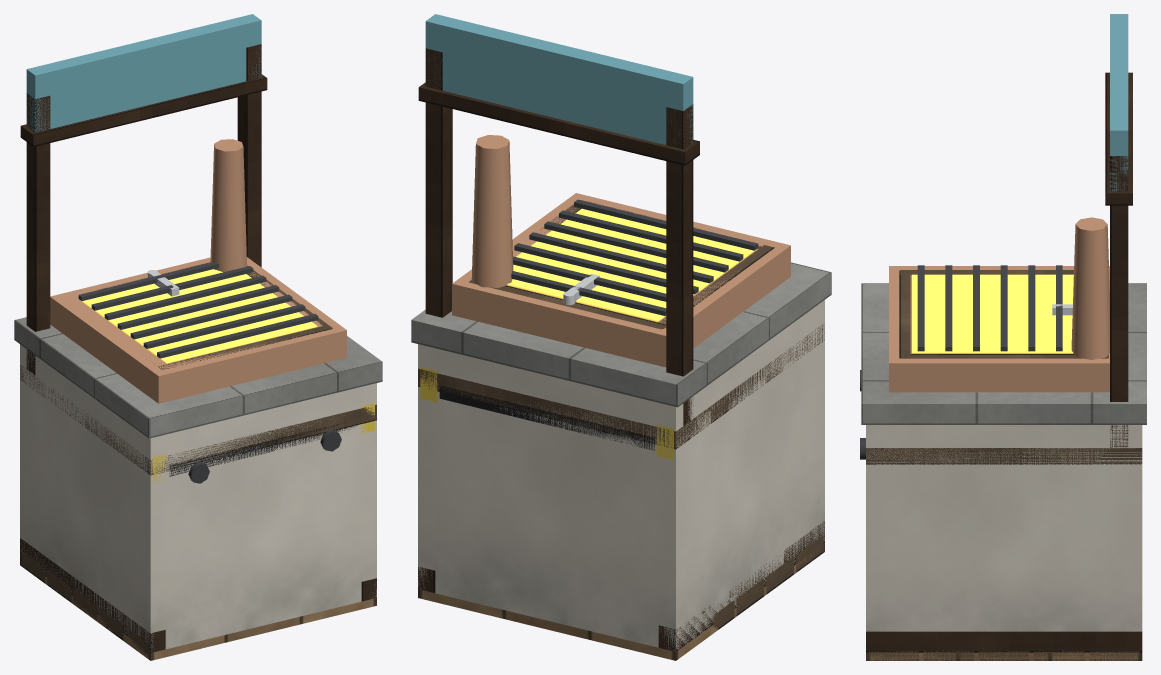
The model's file is coop.glb.
3 renders of one model, left to right at view 1: azimuth 30°, elevation 25°; view 2: azimuth 150°, elevation 25°; view 3: azimuth 270°, elevation 25°, orthographic. The views are drawn at different scales.
Visible parts, largest first — view 1: k_wall, k_smoker, k_hatch, k_board, k_plank, k_floor, k_belt, k_crate, k_stove; view 2: k_wall, k_hatch, k_smoker, k_board, k_plank, k_belt, k_floor, k_crate; view 3: k_wall, k_smoker, k_hatch, k_plank, k_board, k_crate, k_floor.
Boxes of the visible parts, bbox=[...] form: k_wall: bbox=[14, 317, 382, 651]; k_smoker: bbox=[50, 139, 346, 403]; k_hatch: bbox=[20, 14, 267, 374]; k_board: bbox=[20, 365, 376, 475]; k_plank: bbox=[20, 538, 376, 659]; k_floor: bbox=[20, 557, 376, 660]; k_belt: bbox=[152, 403, 374, 484]; k_crate: bbox=[98, 262, 332, 369]; k_stove: bbox=[188, 430, 341, 483]; k_wall: bbox=[411, 262, 831, 651]; k_hatch: bbox=[418, 14, 699, 425]; k_smoker: bbox=[452, 135, 790, 367]; k_board: bbox=[418, 323, 824, 449]; k_plank: bbox=[418, 521, 824, 651]; k_belt: bbox=[420, 367, 673, 459]; k_floor: bbox=[418, 543, 824, 660]; k_crate: bbox=[469, 200, 774, 329]; k_wall: bbox=[861, 283, 1146, 652]; k_smoker: bbox=[889, 217, 1109, 392]; k_hatch: bbox=[1105, 14, 1132, 447]; k_plank: bbox=[866, 631, 1142, 660]; k_board: bbox=[866, 448, 1142, 464]; k_crate: bbox=[899, 270, 1108, 358]; k_floor: bbox=[866, 652, 1142, 660].
Size of the model in its own units: 1.24 by 2.56 by 1.25.
28 materials, 7 textured.
